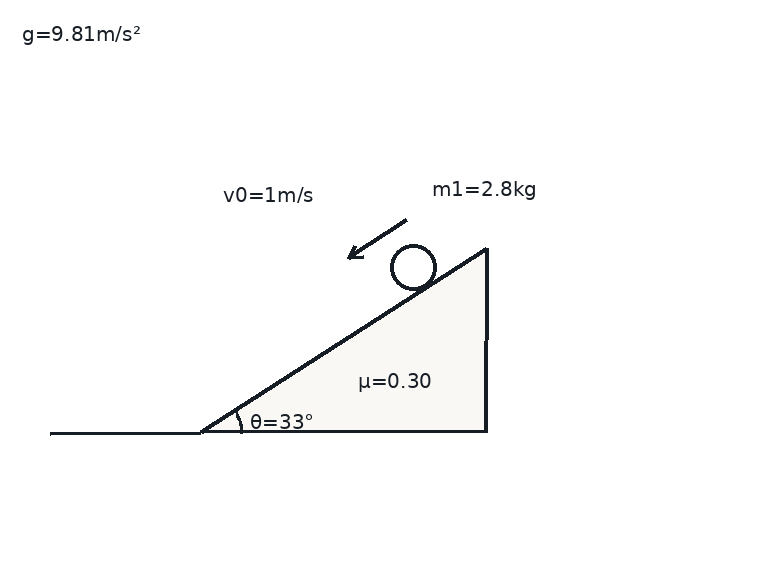ball: (388, 242, 438, 292)
ramp: (199, 245, 487, 434)
